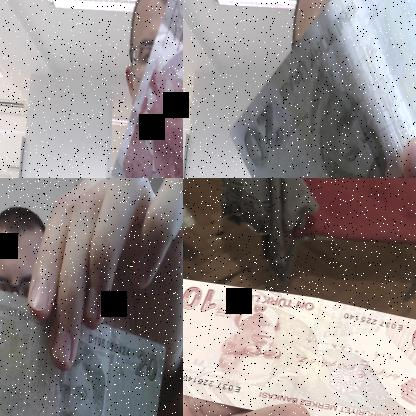5 TL: (105, 0, 182, 177)
